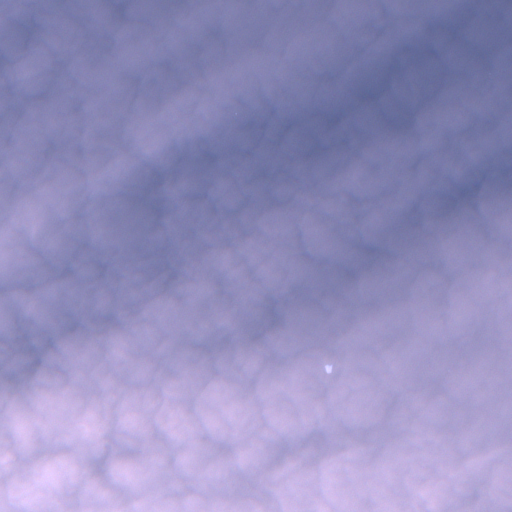Iceberg: (325, 365, 331, 373)
